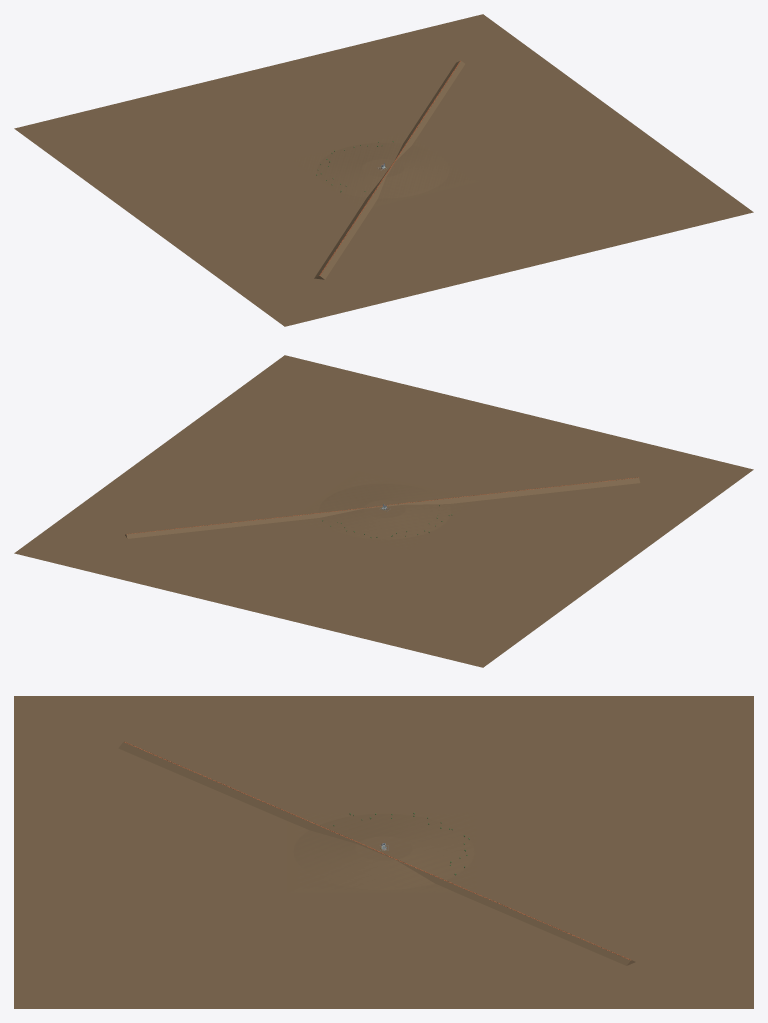
File: railroad-ours-claude-fable-5-2.glb
3 renders of one model, top to bottom at view 1: azimuth 30°, elevation 25°; view 2: azimuth 150°, elevation 25°; view 3: azimuth 270°, elevation 25°, orthographic. The views are drawn at different scales.
Parts seen in each view (by area): view 1: object 1; view 2: object 1; view 3: object 1.
Part boxes in pixels (box(x1,y1,x2,y2)): object 1: box(14, 14, 753, 326); object 1: box(14, 355, 753, 667); object 1: box(14, 696, 753, 1008).
Bounding box in the file's own units: 1800 × 26.17 × 1800.
